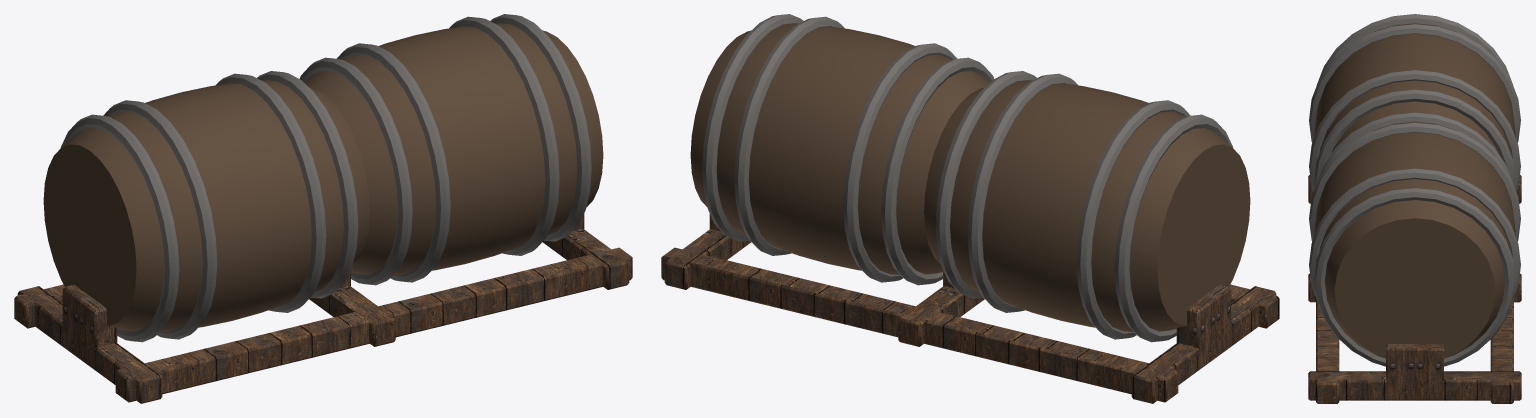
Rendered from barrel-rack-v01.glb.
The picture shows the model from 3 angles, left to right: view 1: azimuth 30°, elevation 25°; view 2: azimuth 150°, elevation 25°; view 3: azimuth 270°, elevation 25°; orthographic projection. The views are drawn at different scales.
Parts seen in each view (by area): view 1: barrel-rack; view 2: barrel-rack; view 3: barrel-rack.
Boxes of the visible parts, <box> form: barrel-rack: <box>14,14,632,403</box>; barrel-rack: <box>661,14,1279,403</box>; barrel-rack: <box>1308,14,1521,403</box>.
Bounding box in the file's own units: 2.6 × 1.15 × 1.1.
Materials: 2 (1 with a texture image).
